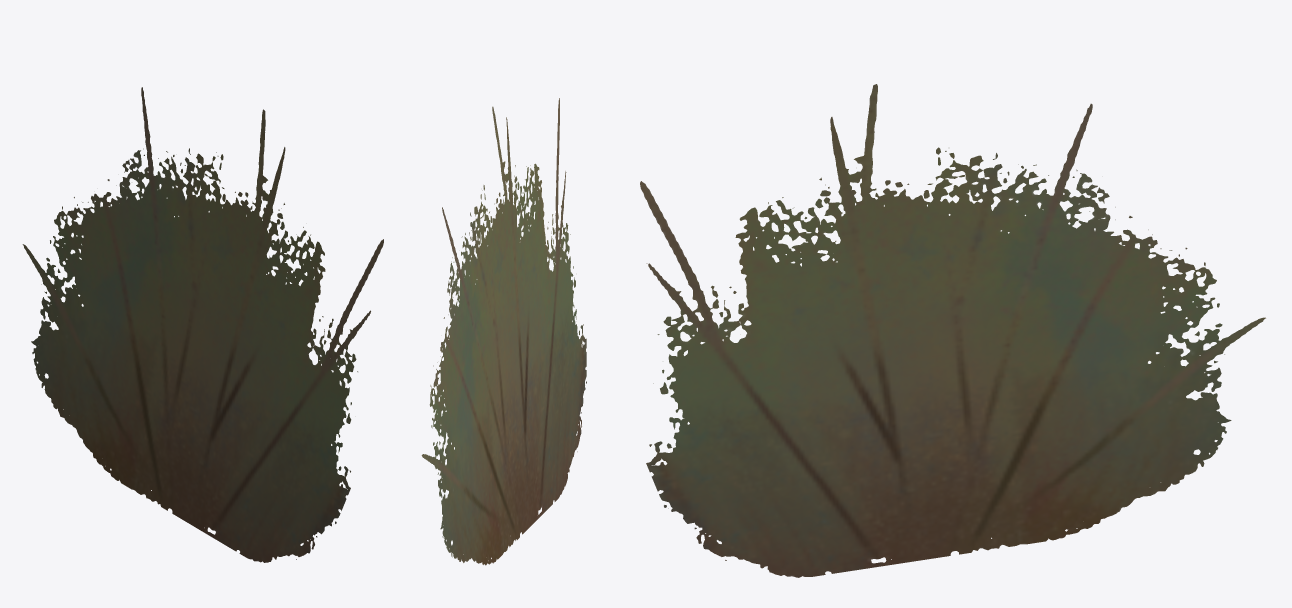
File: bush1_003.fbx
3 renders of one model, left to right at view 1: azimuth 30°, elevation 25°; view 2: azimuth 150°, elevation 25°; view 3: azimuth 270°, elevation 25°, orthographic. The views are drawn at different scales.
Parts seen in each view (by area): view 1: bush1.003; view 2: bush1.003; view 3: bush1.003.
Part boxes in pixels (box(x1,y1,x2,y2)): bush1.003: box(22, 87, 383, 562); bush1.003: box(421, 98, 586, 565); bush1.003: box(640, 84, 1265, 577).
Bounding box in the file's own units: 68.07 × 246 × 252.
